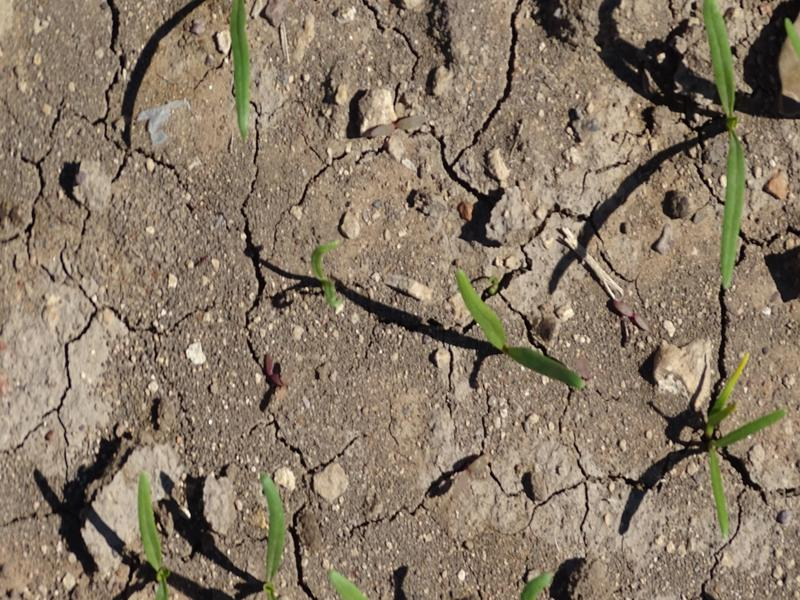Espinaca: (452, 269, 587, 398), (699, 3, 736, 287), (709, 370, 775, 525), (226, 3, 260, 135), (131, 470, 169, 571), (259, 473, 286, 584)
